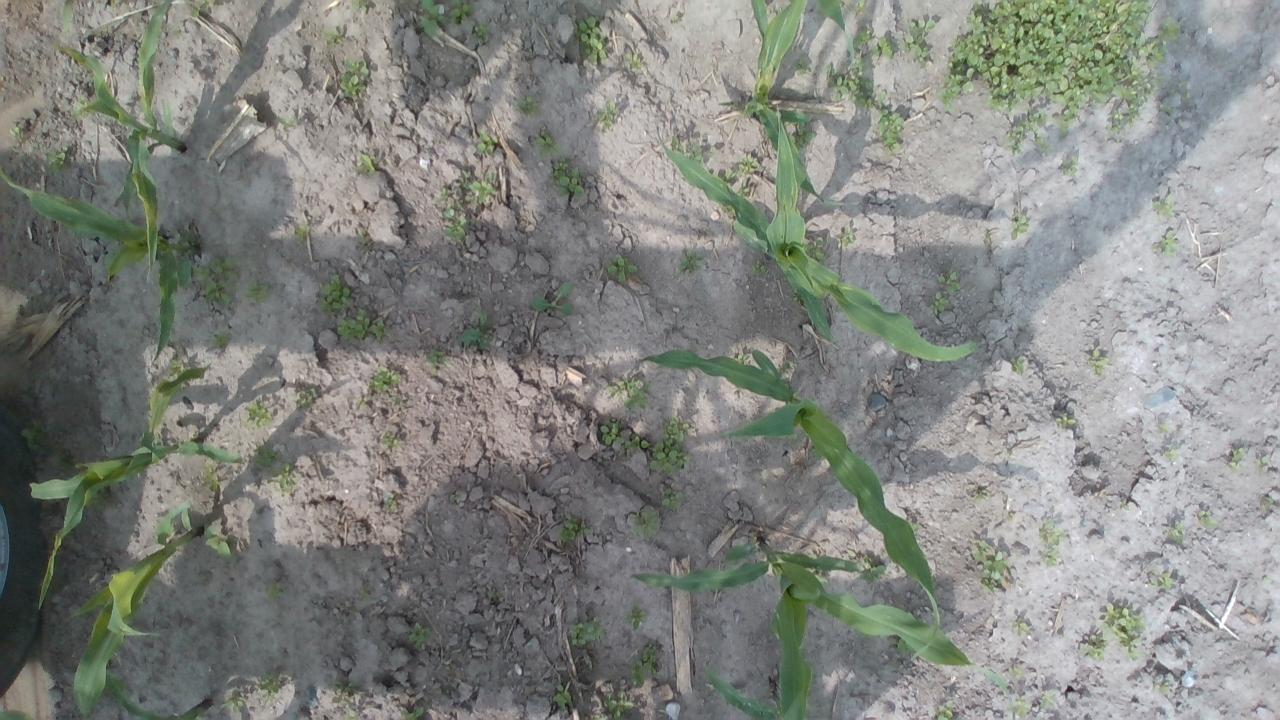Maize: (636, 344, 942, 664), (654, 106, 981, 364), (628, 534, 1030, 707), (32, 360, 252, 614), (0, 163, 194, 364), (58, 0, 188, 282), (64, 500, 200, 714), (737, 0, 861, 212), (0, 671, 211, 720), (700, 657, 811, 720), (746, 0, 852, 47)
Weeds: (939, 0, 1167, 137), (825, 58, 886, 110), (1100, 600, 1148, 660), (648, 415, 693, 474), (971, 538, 1011, 594), (191, 256, 235, 306), (418, 0, 472, 38), (572, 12, 608, 62), (334, 308, 390, 340), (902, 18, 937, 67), (530, 280, 575, 317), (874, 108, 907, 155), (457, 306, 492, 350), (928, 270, 962, 314), (550, 156, 586, 197), (337, 56, 371, 99), (608, 376, 650, 409), (314, 273, 348, 313), (459, 169, 496, 204), (1038, 520, 1065, 567), (204, 523, 237, 560), (630, 646, 659, 686), (570, 614, 606, 646), (269, 460, 299, 495), (556, 513, 592, 542), (442, 200, 468, 240), (331, 679, 356, 720), (254, 669, 284, 702), (722, 154, 760, 180), (605, 254, 639, 283), (604, 688, 634, 720), (244, 400, 276, 430), (170, 226, 198, 260), (630, 509, 661, 539), (366, 364, 398, 393), (595, 98, 621, 132), (858, 553, 886, 584), (789, 120, 816, 152), (20, 419, 46, 452), (86, 485, 120, 510), (1078, 634, 1108, 662), (533, 128, 562, 156), (676, 250, 704, 278), (253, 441, 281, 469), (242, 278, 274, 302), (514, 93, 544, 118), (49, 450, 78, 475), (406, 622, 431, 650), (1158, 229, 1180, 260), (1159, 16, 1185, 42), (804, 234, 828, 262), (1085, 348, 1109, 376), (600, 418, 624, 446), (870, 37, 900, 59), (46, 146, 70, 173), (202, 460, 222, 492), (427, 348, 451, 374), (1152, 192, 1176, 218), (476, 127, 498, 155), (1009, 212, 1029, 242), (624, 603, 646, 630), (660, 487, 684, 510), (849, 26, 874, 48), (888, 635, 915, 655), (220, 692, 247, 712), (1007, 697, 1032, 718), (552, 685, 572, 711), (1227, 446, 1246, 472), (1004, 132, 1026, 154), (1148, 569, 1172, 589), (625, 432, 649, 452), (296, 387, 320, 407), (834, 225, 856, 246), (400, 703, 426, 720), (70, 96, 90, 118), (212, 331, 234, 350), (321, 26, 343, 45), (1060, 155, 1078, 178), (936, 698, 954, 720), (190, 0, 213, 17), (1168, 521, 1185, 544), (1172, 80, 1191, 100), (356, 154, 376, 173), (1198, 509, 1218, 528), (623, 52, 644, 70), (266, 580, 284, 600), (1034, 134, 1052, 153), (1258, 496, 1276, 515), (1010, 618, 1030, 635), (1052, 414, 1076, 428), (168, 359, 185, 378), (1009, 356, 1026, 374), (473, 22, 492, 38), (1039, 690, 1054, 710), (812, 568, 829, 585), (792, 58, 808, 76), (380, 434, 399, 449), (688, 143, 703, 162), (276, 116, 296, 130), (296, 224, 310, 244), (348, 0, 371, 12), (750, 259, 766, 276), (1154, 674, 1168, 693), (736, 352, 752, 368), (736, 180, 750, 197), (438, 185, 452, 202), (671, 137, 684, 155), (385, 492, 397, 511), (1256, 456, 1270, 472), (1164, 446, 1180, 460), (720, 204, 737, 217), (357, 228, 370, 244), (390, 396, 406, 408), (1008, 666, 1024, 678), (1159, 102, 1173, 115), (973, 488, 988, 500), (357, 395, 372, 406), (8, 124, 20, 137), (789, 288, 800, 302), (854, 0, 866, 12), (1158, 422, 1170, 434), (450, 491, 460, 503), (782, 360, 794, 370), (360, 588, 370, 600), (172, 26, 182, 36), (670, 12, 680, 22), (489, 591, 498, 600), (594, 714, 606, 720)
